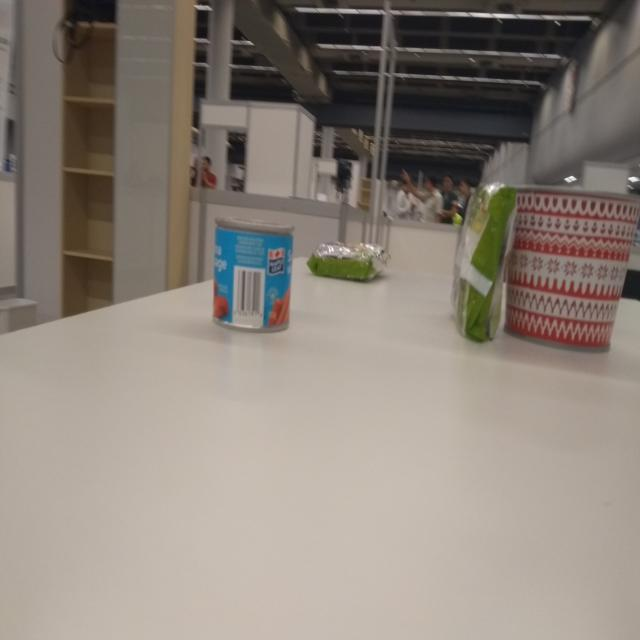noodles: (451, 176, 523, 359), (304, 234, 395, 287)
sausages: (210, 215, 296, 339)
